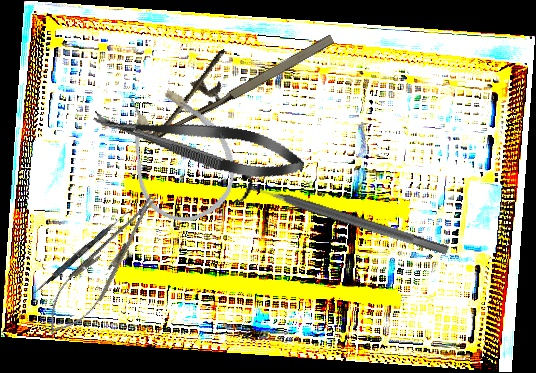Cannula: (105, 68, 251, 236)
Fixation Ring: (233, 170, 453, 268)
Micro Scissor: (88, 96, 309, 189)
Needle Holder: (125, 3, 338, 145), (34, 183, 172, 347)
Spatula Surgical: (31, 205, 134, 298)
